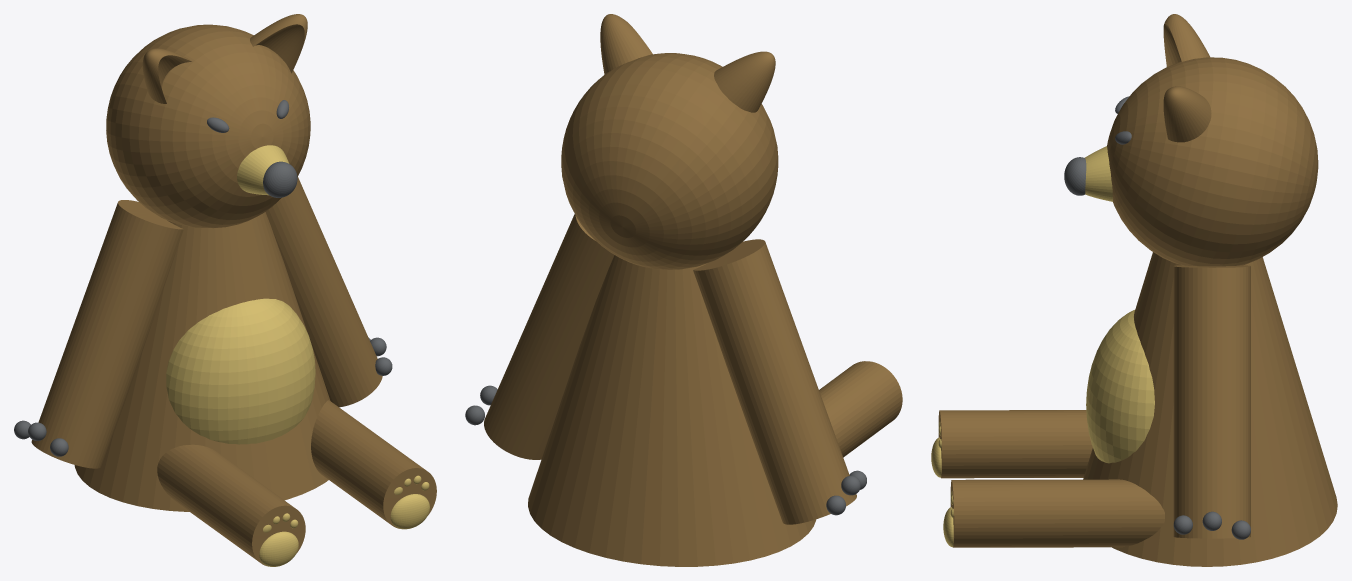
The model's file is Surprising Jofo.glb.
3 renders of one model, left to right at view 1: azimuth 30°, elevation 25°; view 2: azimuth 150°, elevation 25°; view 3: azimuth 270°, elevation 25°, orthographic. The views are drawn at different scales.
Visible parts, largest first — view 1: Mesh_Mesh_head_geo.001_lambert2SG.001; view 2: Mesh_Mesh_head_geo.001_lambert2SG.001; view 3: Mesh_Mesh_head_geo.001_lambert2SG.001.
Boxes of the visible parts, <box> form: Mesh_Mesh_head_geo.001_lambert2SG.001: <box>14,14,436,566</box>; Mesh_Mesh_head_geo.001_lambert2SG.001: <box>465,14,902,566</box>; Mesh_Mesh_head_geo.001_lambert2SG.001: <box>931,14,1337,566</box>.
Bounding box in the file's own units: 0.0442 × 0.0517 × 0.042.
